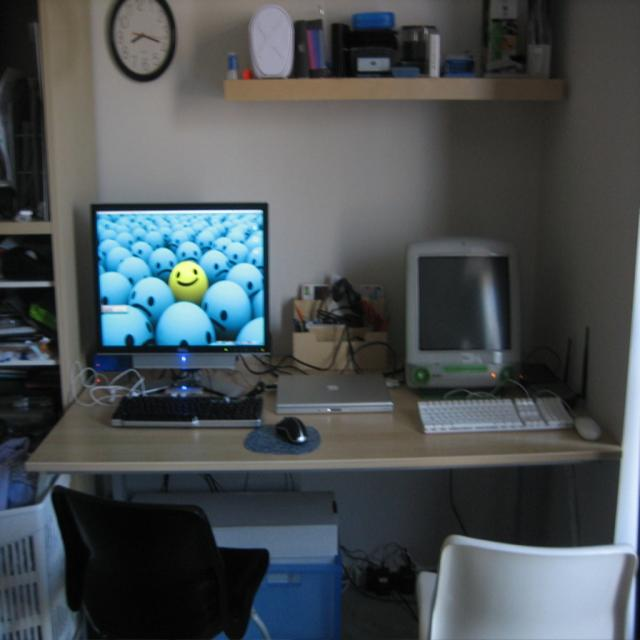chair: (51, 489, 272, 639), (418, 536, 640, 639)
desk: (27, 352, 615, 550)
keyboard: (417, 392, 574, 435), (107, 392, 265, 428)
laptop: (275, 373, 393, 414)
mouse: (274, 416, 308, 444), (572, 414, 602, 442)
tv: (83, 201, 272, 374), (404, 237, 523, 389)
